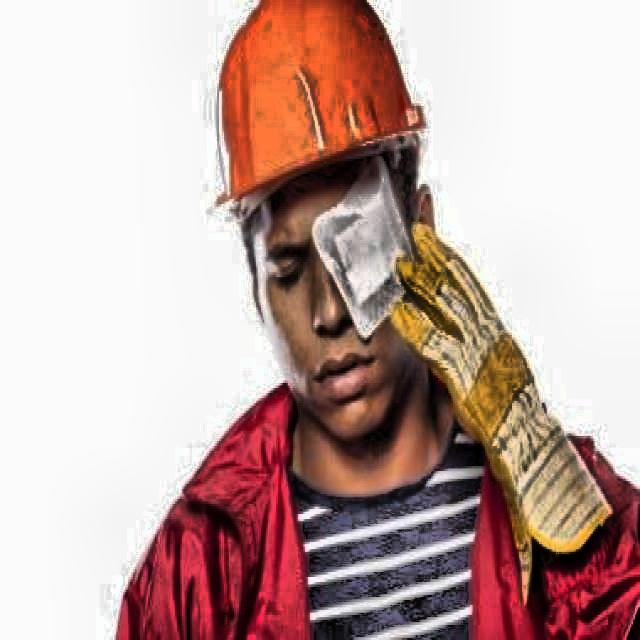person: (111, 0, 640, 640)
